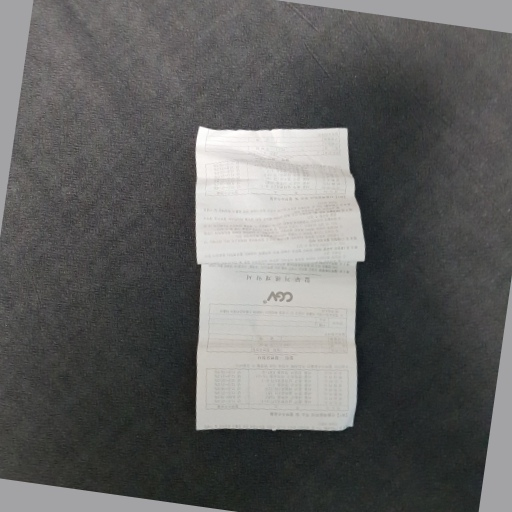Paper_3: (188, 116, 384, 448)
